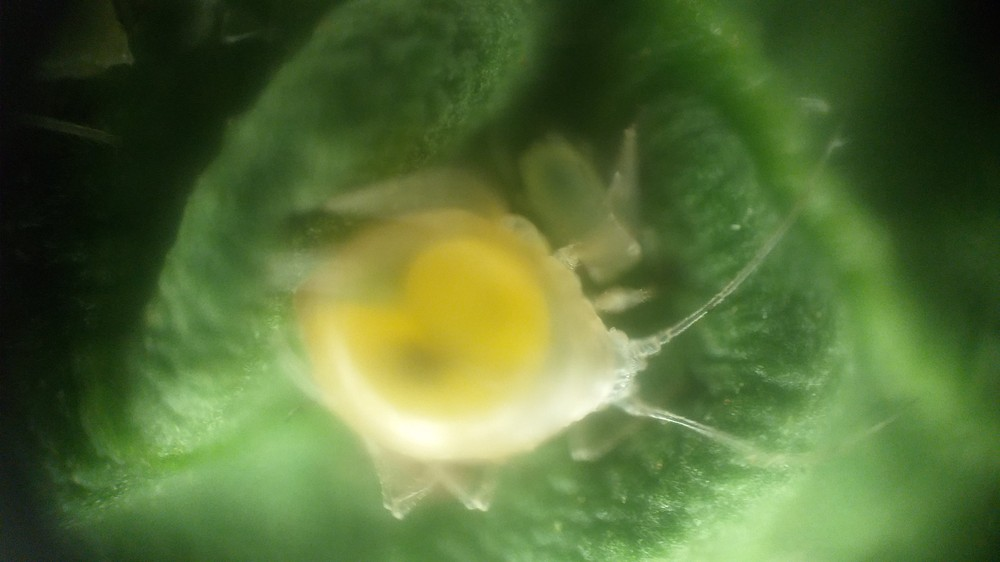Pulgon: (277, 158, 892, 525)
